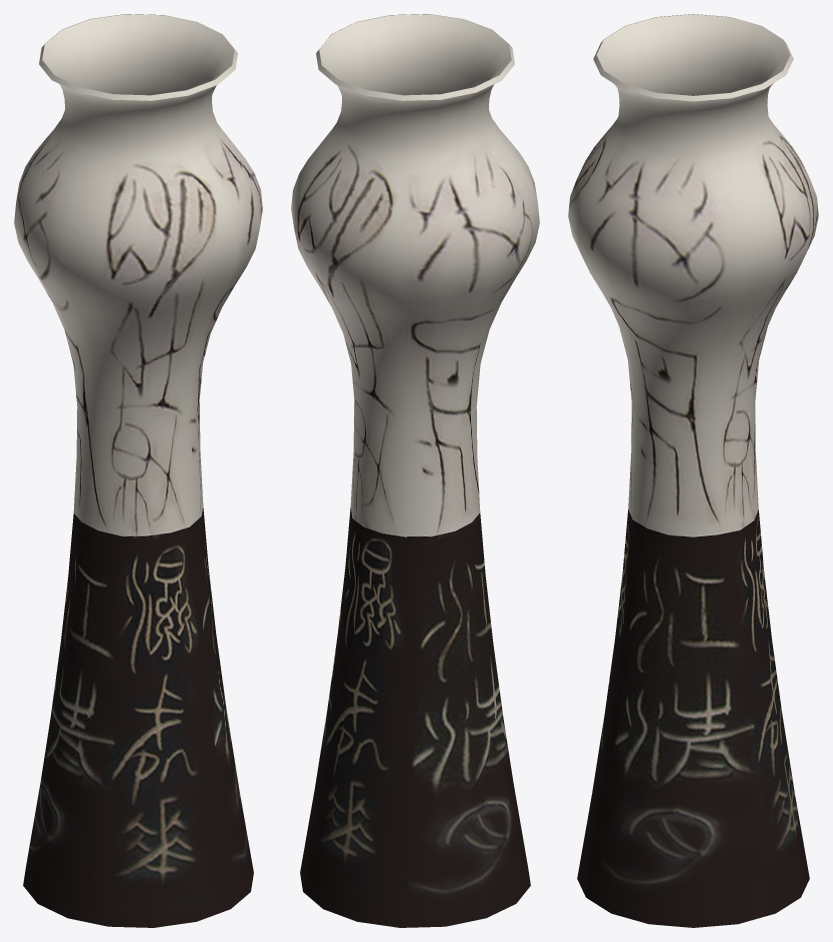
File: handiwork3.FBX
3 views of the same model, side by side, from view 1: azimuth 30°, elevation 25°; view 2: azimuth 150°, elevation 25°; view 3: azimuth 270°, elevation 25° (orthographic).
Parts seen in each view (by area): view 1: gyp03, gyp03a; view 2: gyp03, gyp03a; view 3: gyp03, gyp03a.
Boxes of the visible parts, box(x1,y1,x2,y2) form: gyp03: box(14, 14, 262, 927); gyp03a: box(42, 14, 234, 95); gyp03: box(291, 14, 539, 927); gyp03a: box(319, 14, 511, 95); gyp03: box(568, 14, 818, 927); gyp03a: box(596, 14, 790, 95).
Bounding box in the file's own units: 0.2063 × 0.7481 × 0.2063.
